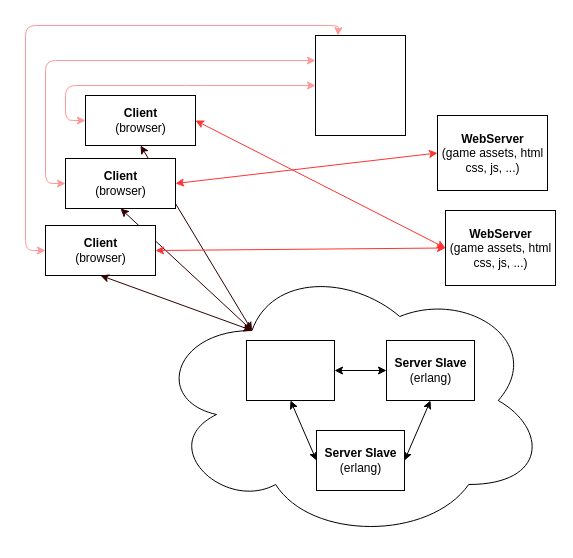
Some shapes in this 573 by 558 pixel diagram are drawn without their labels. The shapes that lost their labels are listed below. From the top down, each one's centre as x and y in pixels, then its label:
the point at 360,85: DNS
the point at 290,370: Server Master (erlang)
